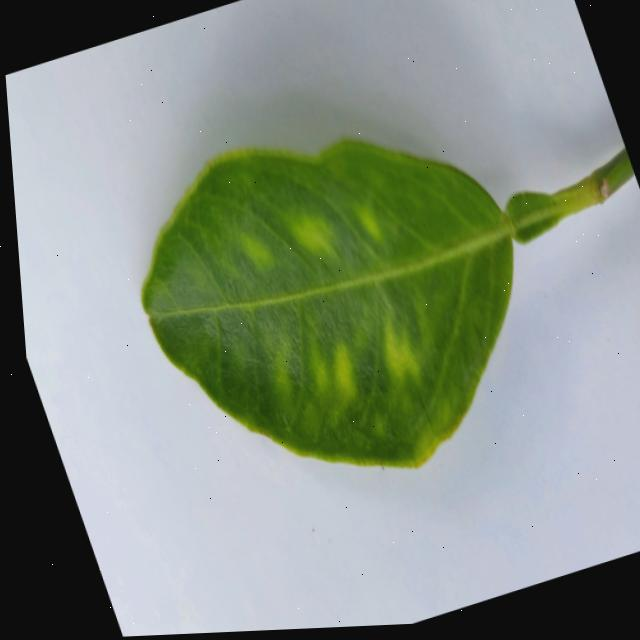greening: (141, 141, 580, 467)
